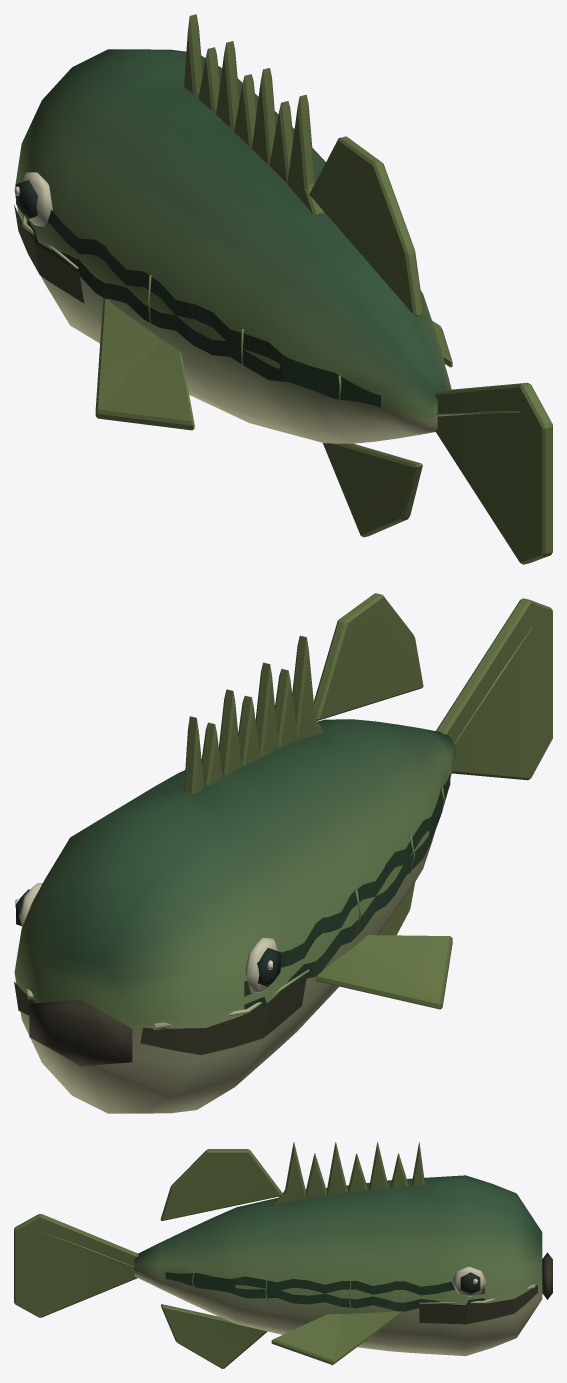
File: fish_bass.glb
The picture shows the model from 3 angles, top to bottom: view 1: azimuth 30°, elevation 25°; view 2: azimuth 150°, elevation 25°; view 3: azimuth 270°, elevation 25°; orthographic projection. The views are drawn at different scales.
Size of the model in its own units: 0.1686 by 0.1844 by 0.4.
